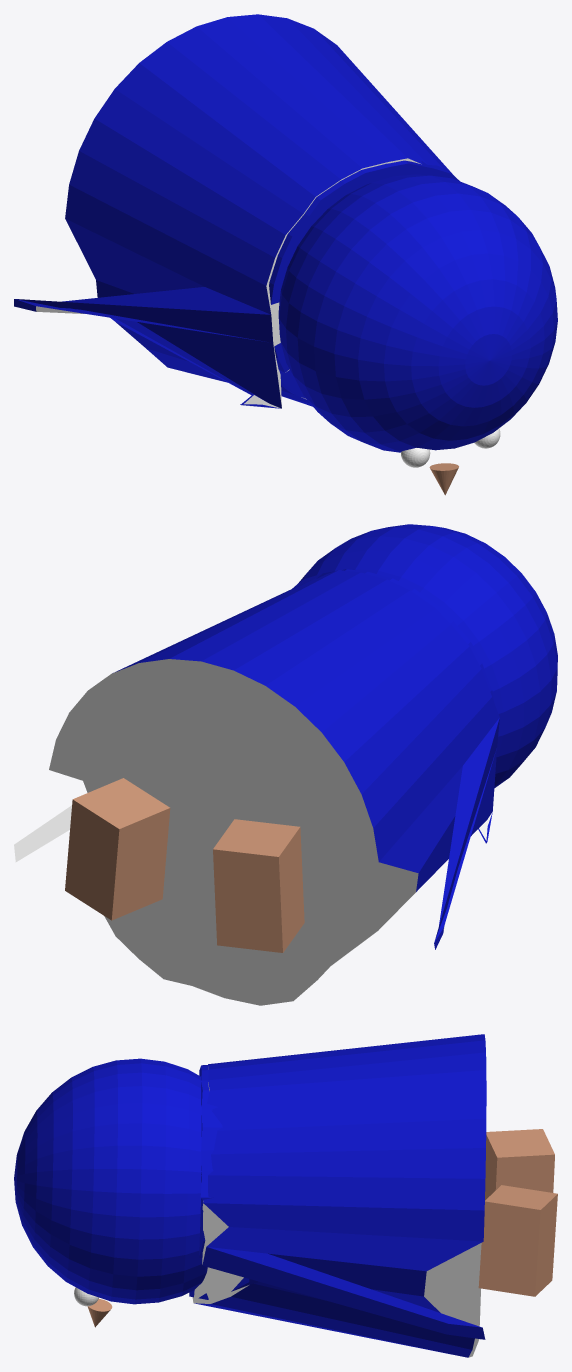
The model's file is penguin.fbx.
The picture shows the model from 3 angles, top to bottom: view 1: azimuth 30°, elevation 25°; view 2: azimuth 150°, elevation 25°; view 3: azimuth 270°, elevation 25°; orthographic projection. The views are drawn at different scales.
Parts seen in each view (by area): view 1: Cylinder.001, Sphere, Cylinder; view 2: Cylinder.001, Sphere, Cube, Cube.002, Cylinder; view 3: Cylinder.001, Sphere, Cube, Cube.002, Cylinder.
Boxes of the visible parts, x1,y1,x2,y2 form: Cylinder.001: (14,14,454,408); Sphere: (278,174,557,452); Cylinder: (269,160,459,398); Cylinder.001: (14,570,499,1005); Sphere: (298,524,557,788); Cube: (65,778,170,920); Cube.002: (213,819,304,952); Cylinder: (292,569,494,702); Cylinder.001: (192,1034,486,1357); Sphere: (14,1058,207,1304); Cube: (478,1185,557,1296); Cube.002: (485,1129,554,1200); Cylinder: (189,1065,257,1299).
Size of the model in its own units: 304 by 238 by 404.
